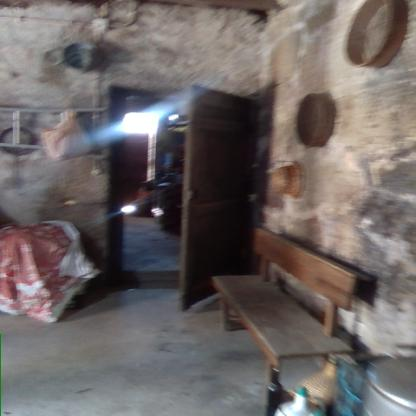semi: (101, 77, 268, 305)
